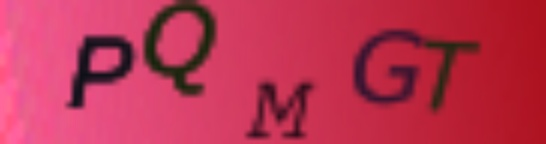G: (350, 25, 423, 105)
M: (243, 79, 319, 142)
P: (64, 32, 139, 110)
Q: (142, 1, 220, 98)
T: (419, 36, 485, 115)
